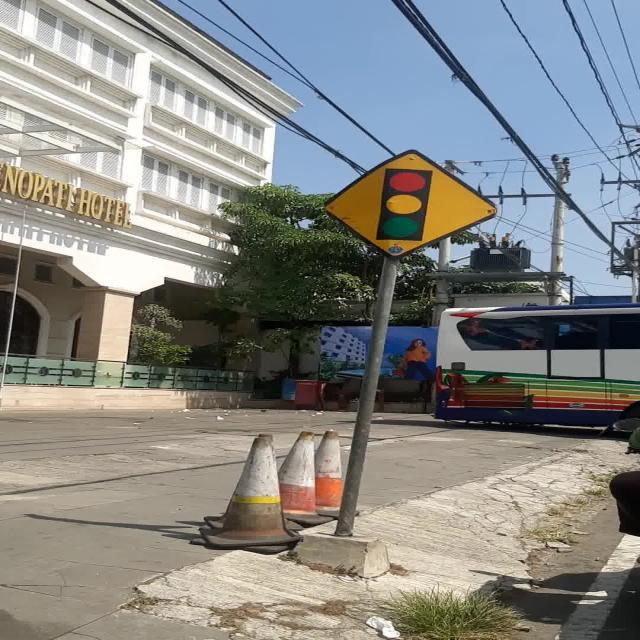Lampu Lalu Lintas: (326, 149, 497, 259)
